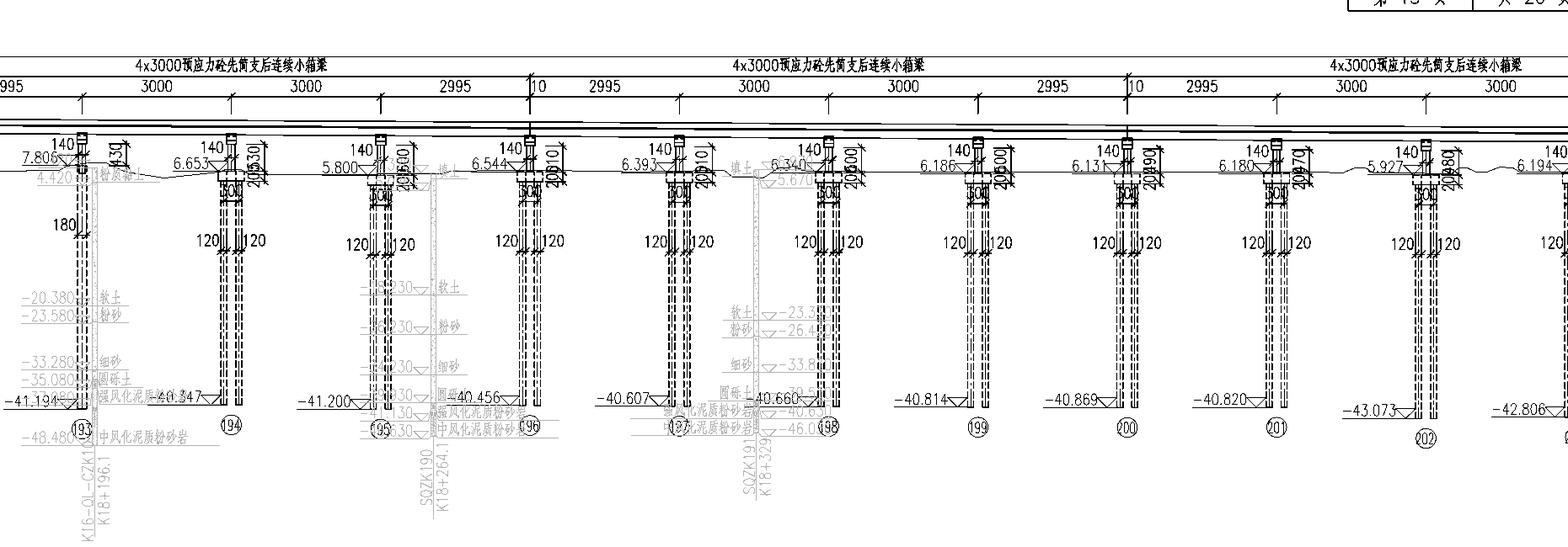B: (1121, 50, 1565, 87)
C: (592, 127, 709, 444), (1340, 131, 1453, 459), (891, 130, 1006, 447), (297, 125, 410, 445), (1190, 131, 1304, 446), (1041, 130, 1154, 447), (149, 125, 257, 443), (450, 127, 557, 441), (15, 126, 102, 446), (1490, 141, 1566, 454)
